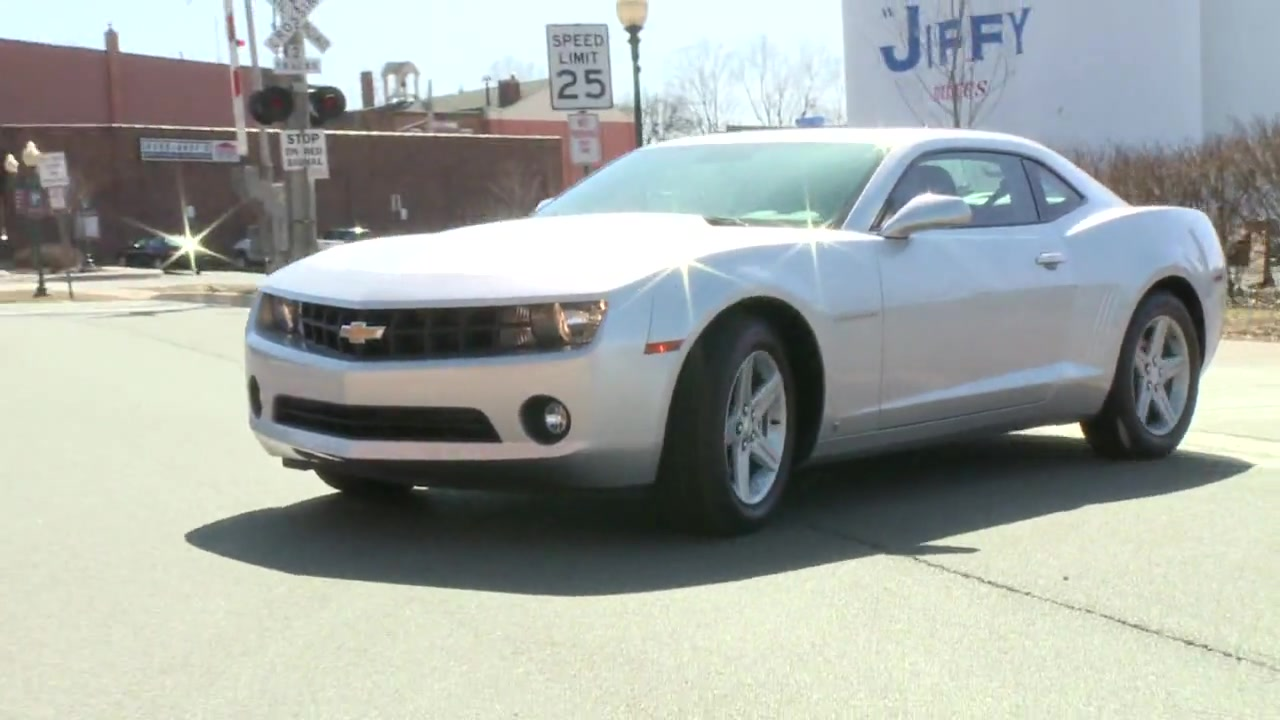car: (240, 128, 1232, 540)
